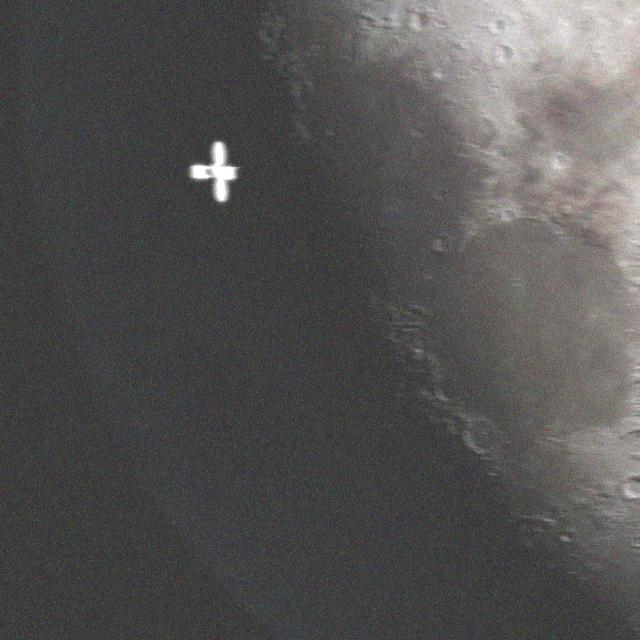satellite: (177, 133, 244, 207)
